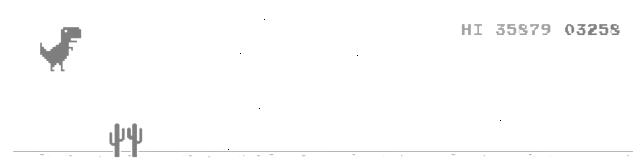cactus: (127, 124, 142, 157), (110, 124, 124, 157)
cloud: (342, 48, 388, 61), (148, 87, 194, 99)
dinosaur: (41, 28, 81, 71)
